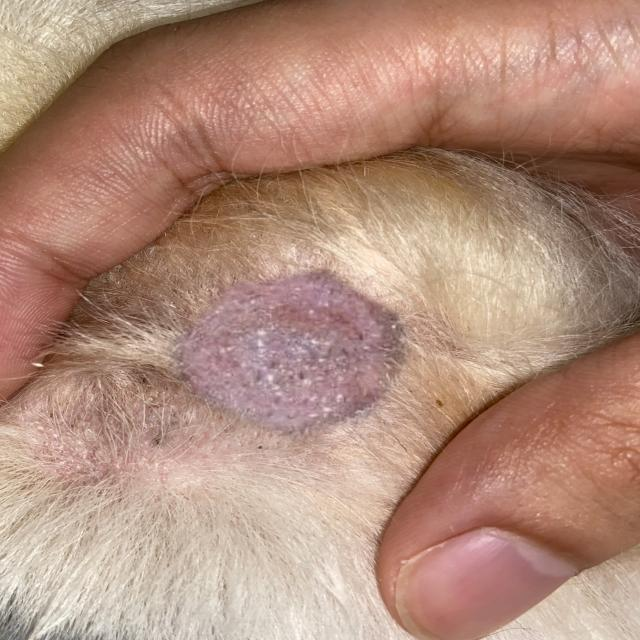ringworm: (159, 216, 447, 457)
